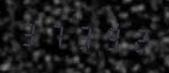nine: (96, 20, 121, 54)
seven: (44, 17, 69, 52)
three: (18, 16, 43, 50), (70, 19, 95, 53)
two: (122, 22, 147, 56)
